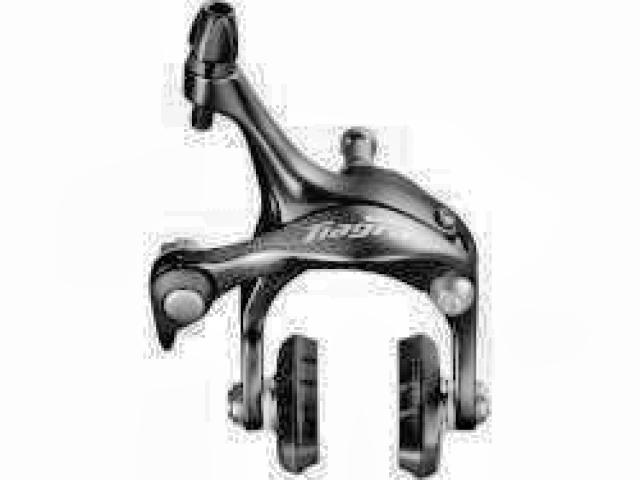rim_brake: (150, 2, 490, 477)
